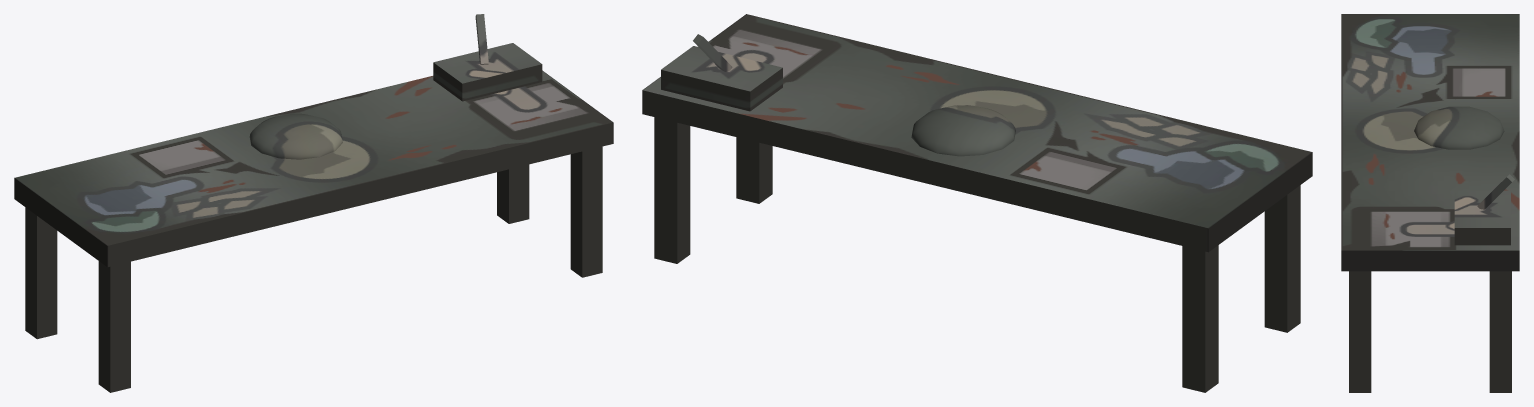
The model's file is Building_AncientTableDrugLab.obj.
3 renders of one model, left to right at view 1: azimuth 30°, elevation 25°; view 2: azimuth 150°, elevation 25°; view 3: azimuth 270°, elevation 25°, orthographic. The views are drawn at different scales.
Visible parts, largest first — view 1: Body; view 2: Body; view 3: Body.
Part boxes in pixels (x1,y1,x2,y2): Body: [14, 14, 613, 392]; Body: [642, 14, 1312, 392]; Body: [1341, 14, 1519, 392].
Bounding box in the file's own units: 2.97 × 1.16 × 0.9453.
Materials: 1 (1 with a texture image).
